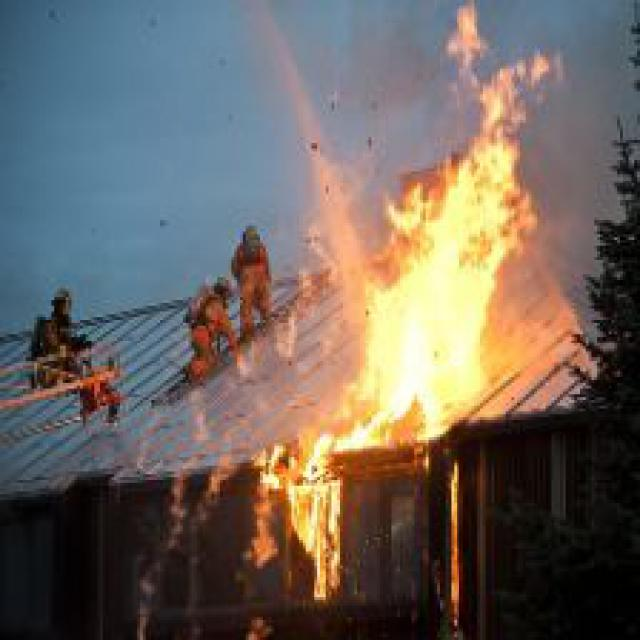fire: (323, 14, 563, 446), (243, 420, 363, 600)
